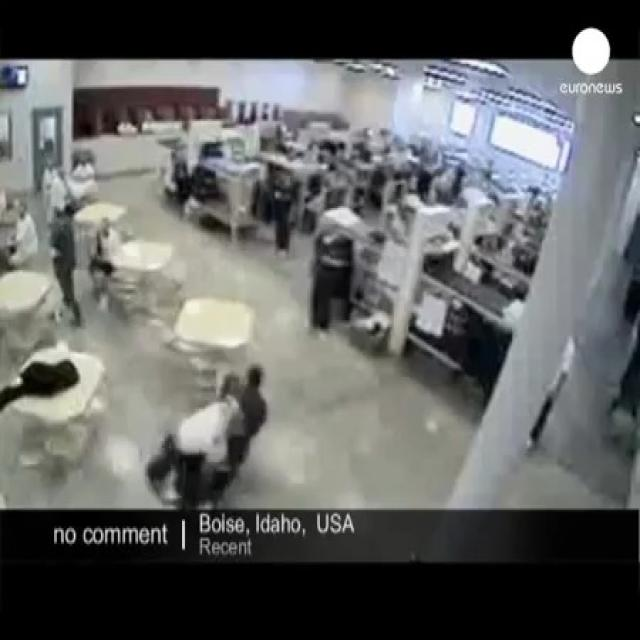fight: (119, 342, 311, 507)
